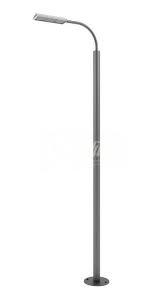Animal: (31, 3, 117, 299)
